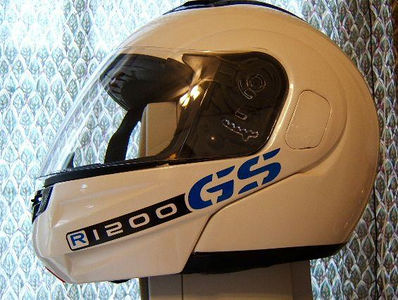helmet: (53, 6, 371, 268)
